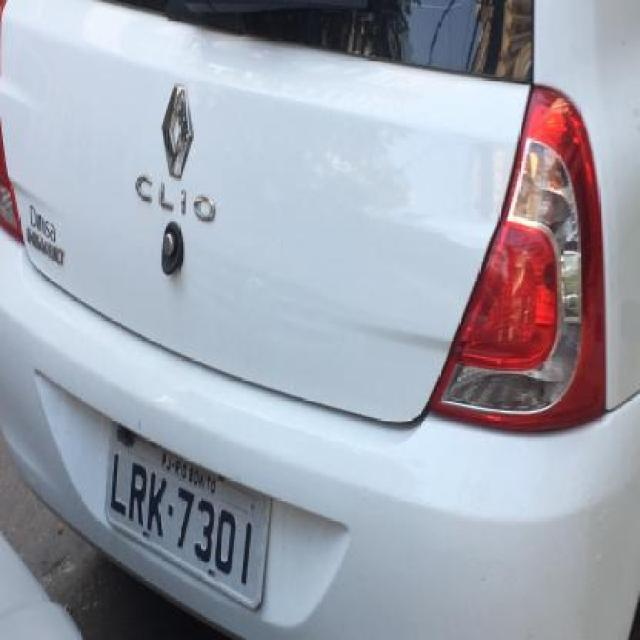old_plate: (100, 413, 279, 616)
